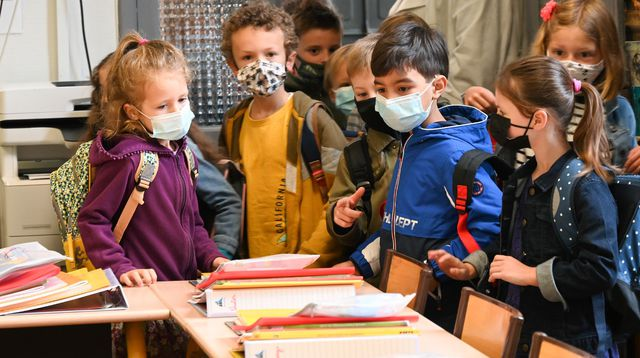with_incorrect_mask: (293, 27, 341, 88)
with_mask: (541, 21, 607, 94), (371, 62, 437, 133), (230, 25, 292, 99), (137, 76, 194, 141), (490, 87, 545, 150), (351, 72, 380, 127)
